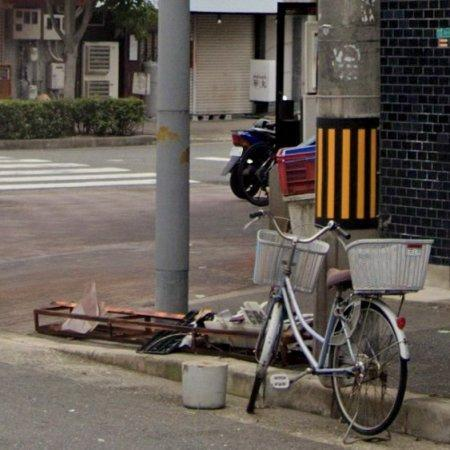bicycles: (247, 210, 433, 436)
